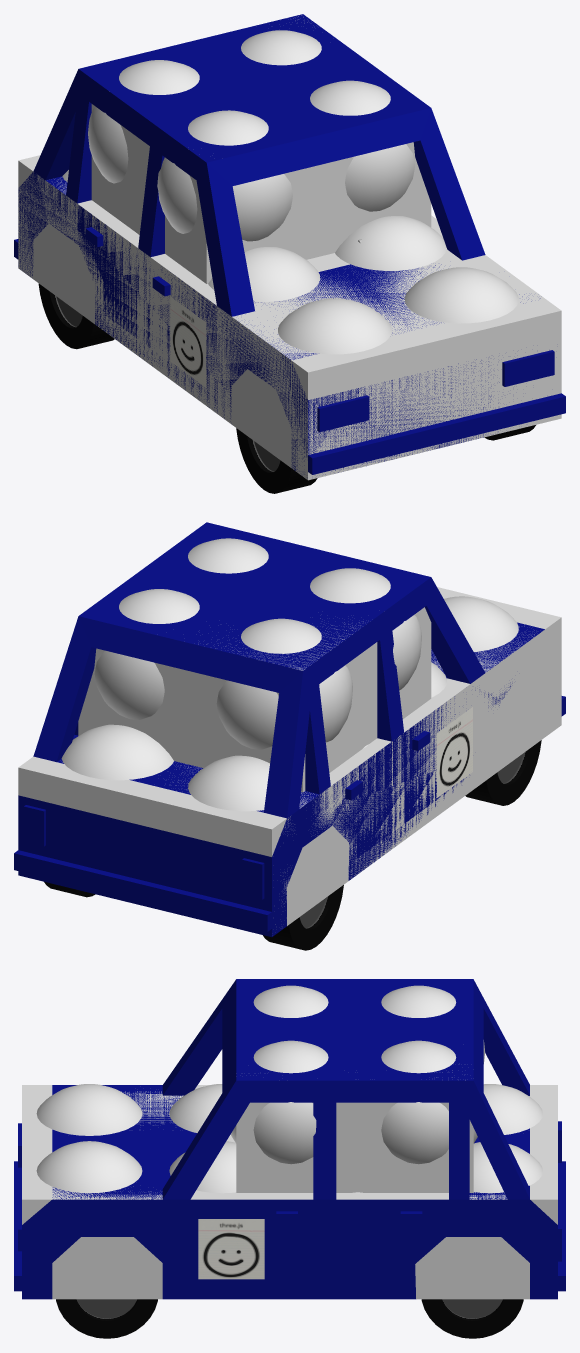
The model's file is car.glb.
3 views of the same model, one above another, from view 1: azimuth 30°, elevation 25°; view 2: azimuth 150°, elevation 25°; view 3: azimuth 270°, elevation 25° (orthographic). The views are drawn at different scales.
Visible parts, largest first — view 1: body, Cube.006, Cube.002, Sphere.002, Sphere.001, Sphere, Sphere.003, Sphere.010, Sphere.007, door_4, Sphere.011, Door_Sign_R (+4 smaller); view 2: body, Cube.006, Cube.002, Sphere.007, Sphere.004, Sphere.005, door_4, Sphere.002, Sphere.006, door_2, Sphere.003, Door_Sign_R (+3 smaller); view 3: body, Cube.006, Cube.002, door_3, door_1, Sphere.004, Sphere.001, Sphere, Sphere.003, Door_Sign_L, Cylinder.001, wheel_fl (+6 smaller).
Part boxes in pixels (x1,y1,x2,y2): body: (14, 14, 565, 477); Cube.006: (18, 155, 561, 480); Cube.002: (91, 15, 431, 283); Sphere.002: (157, 110, 292, 241); Sphere.001: (310, 80, 414, 211); Sphere: (404, 267, 518, 368); Sphere.003: (278, 298, 391, 399); Sphere.010: (335, 216, 446, 270); Sphere.007: (88, 60, 199, 183); door_4: (77, 204, 138, 338); Sphere.011: (208, 247, 320, 301); Door_Sign_R: (170, 296, 205, 386); body: (14, 522, 565, 937); Cube.006: (18, 587, 561, 925); Cube.002: (78, 607, 431, 792); Sphere.007: (216, 618, 352, 749); Sphere.004: (94, 589, 199, 719); Sphere.005: (61, 724, 173, 780); door_4: (331, 742, 391, 857); Sphere.002: (310, 568, 421, 690); Sphere.006: (188, 755, 269, 811); door_2: (404, 696, 469, 823); Sphere.003: (444, 596, 518, 651); Door_Sign_R: (437, 707, 472, 797); body: (14, 979, 565, 1299); Cube.006: (22, 1085, 557, 1299); Cube.002: (236, 1070, 473, 1192); door_3: (336, 1199, 448, 1283); door_1: (190, 1199, 313, 1283); Sphere.004: (381, 1040, 477, 1164); Sphere.001: (230, 1040, 328, 1164); Sphere: (36, 1141, 142, 1193); Sphere.003: (36, 1084, 142, 1135); Door_Sign_L: (198, 1219, 264, 1279); Cylinder.001: (421, 1299, 523, 1338); wheel_fl: (56, 1299, 157, 1338).
Bounding box in the file's own units: 1.28 × 1.31 × 2.49.
Materials: 4 (3 with a texture image).
